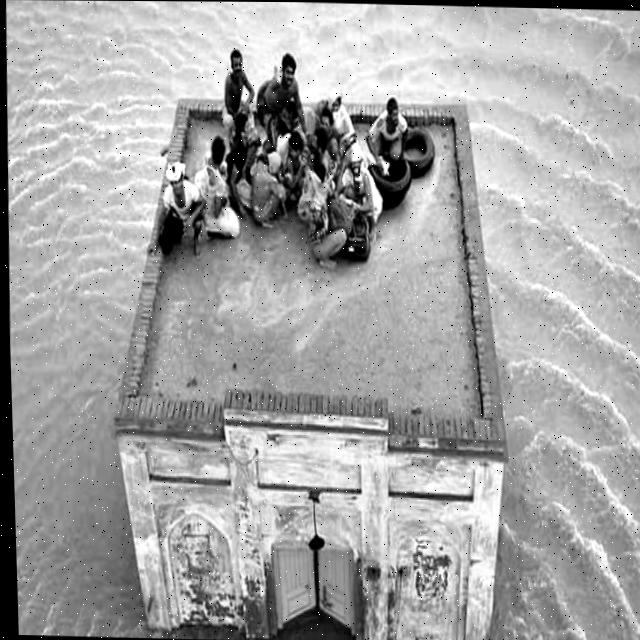civilian: (186, 129, 245, 254), (153, 155, 212, 258), (301, 178, 360, 272), (335, 148, 392, 245), (219, 101, 257, 233), (242, 149, 293, 238), (212, 39, 253, 127), (319, 79, 363, 158), (260, 48, 303, 123), (374, 90, 411, 163), (280, 127, 311, 203), (305, 121, 344, 175), (313, 106, 345, 149)
